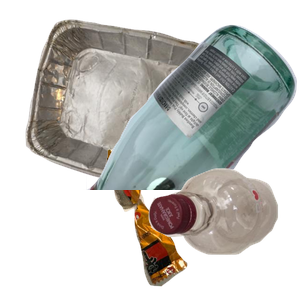glass: (86, 22, 300, 202)
metal: (23, 17, 236, 197)
plastic: (146, 166, 300, 300)
trash: (103, 147, 300, 300)
